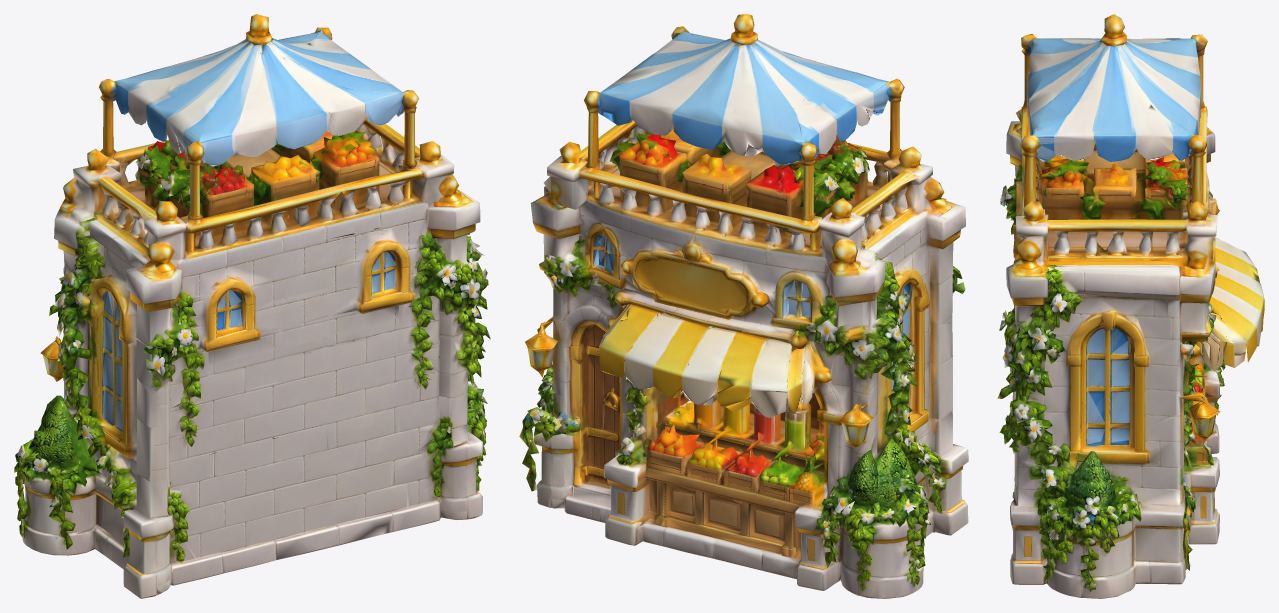
Rendered from HaloShop_Juice_parts.glb.
3 views of the same model, side by side, from view 1: azimuth 30°, elevation 25°; view 2: azimuth 150°, elevation 25°; view 3: azimuth 270°, elevation 25° (orthographic). The views are drawn at different scales.
Visible parts, largest first — view 1: HaloShop_Juice_Body_t00, HaloShop_Juice_Body_t11, HaloShop_Juice_Body_t10, HaloShop_Juice_Display, HaloShop_Juice_Body_t01, HaloShop_Juice_Awning, HaloShop_Juice_Glass, HaloShop_Juice_WinPane; view 2: HaloShop_Juice_Body_t10, HaloShop_Juice_Awning, HaloShop_Juice_Body_t00, HaloShop_Juice_Body_t11, HaloShop_Juice_Body_t01, HaloShop_Juice_Display, HaloShop_Juice_Door, HaloShop_Juice_Glass, HaloShop_Juice_WinPane; view 3: HaloShop_Juice_Body_t10, HaloShop_Juice_Body_t11, HaloShop_Juice_Body_t01, HaloShop_Juice_Body_t00, HaloShop_Juice_Awning, HaloShop_Juice_WinPane, HaloShop_Juice_Glass, HaloShop_Juice_Display.
Boxes of the visible parts, bbox=[...] form: HaloShop_Juice_Body_t00: bbox=[15, 38, 488, 597]; HaloShop_Juice_Body_t11: bbox=[19, 14, 487, 592]; HaloShop_Juice_Body_t10: bbox=[15, 30, 487, 575]; HaloShop_Juice_Display: bbox=[170, 337, 410, 563]; HaloShop_Juice_Body_t01: bbox=[14, 30, 490, 598]; HaloShop_Juice_Awning: bbox=[99, 27, 378, 153]; HaloShop_Juice_Glass: bbox=[102, 78, 404, 429]; HaloShop_Juice_WinPane: bbox=[102, 80, 405, 428]; HaloShop_Juice_Body_t10: bbox=[520, 30, 968, 590]; HaloShop_Juice_Awning: bbox=[584, 39, 867, 417]; HaloShop_Juice_Body_t00: bbox=[519, 26, 968, 589]; HaloShop_Juice_Body_t11: bbox=[522, 14, 959, 585]; HaloShop_Juice_Body_t01: bbox=[534, 31, 965, 598]; HaloShop_Juice_Display: bbox=[630, 364, 842, 548]; HaloShop_Juice_Door: bbox=[551, 323, 622, 485]; HaloShop_Juice_Glass: bbox=[583, 31, 910, 511]; HaloShop_Juice_WinPane: bbox=[583, 34, 909, 511]; HaloShop_Juice_Body_t10: bbox=[999, 31, 1225, 584]; HaloShop_Juice_Body_t11: bbox=[997, 14, 1221, 598]; HaloShop_Juice_Body_t01: bbox=[1001, 32, 1221, 597]; HaloShop_Juice_Body_t00: bbox=[999, 38, 1224, 588]; HaloShop_Juice_Awning: bbox=[1064, 34, 1264, 371]; HaloShop_Juice_WinPane: bbox=[1027, 40, 1213, 510]; HaloShop_Juice_Glass: bbox=[1027, 38, 1214, 508]; HaloShop_Juice_Display: bbox=[1012, 362, 1209, 464].
Size of the model in its own units: 30.74 by 35.15 by 17.4.
10 materials, 9 textured.
